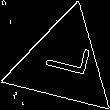L_W: (35, 43, 91, 85)
